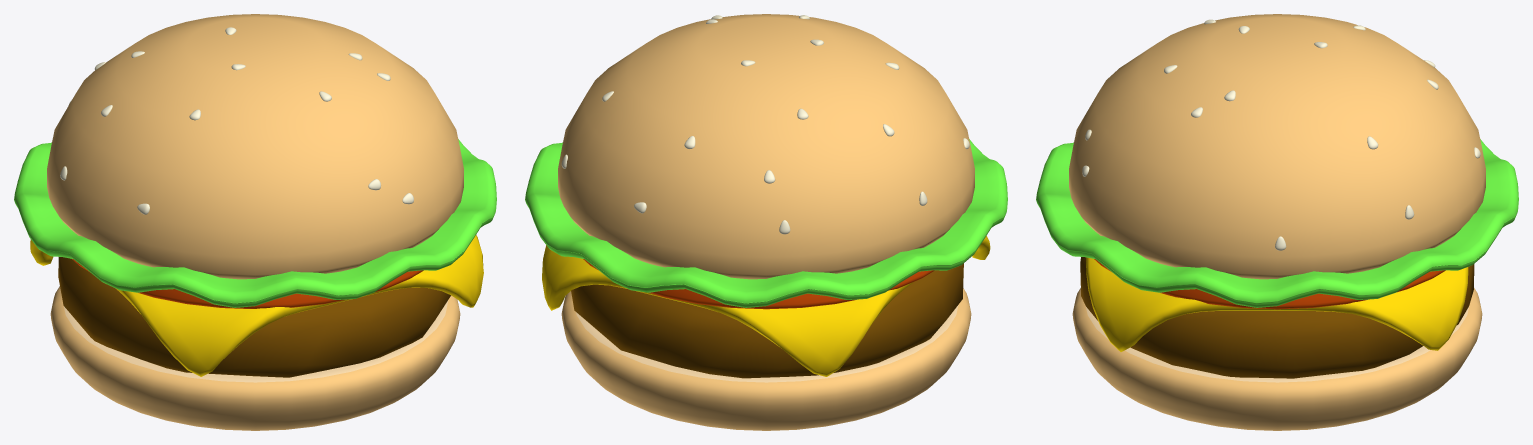
File: Burger.glb
The picture shows the model from 3 angles, left to right: view 1: azimuth 30°, elevation 25°; view 2: azimuth 150°, elevation 25°; view 3: azimuth 270°, elevation 25°; orthographic projection.
Visible parts, largest first — view 1: top_bun_1, Bottom_bun, beef, Lettuce, Cheese, tomato, seeds; view 2: top_bun_1, Bottom_bun, beef, Lettuce, Cheese, tomato, seeds; view 3: top_bun_1, Bottom_bun, Lettuce, beef, Cheese, tomato, seeds.
Boxes of the visible parts, x1,y1,x2,y2 form: top_bun_1: (47,14,463,279); Bottom_bun: (50,286,460,430); beef: (58,257,450,377); Lettuce: (14,139,496,307); Cheese: (30,235,483,376); tomato: (72,259,423,308); seeds: (60,27,413,214); top_bun_1: (558,14,974,279); Bottom_bun: (561,288,971,430); beef: (571,263,963,378); Lettuce: (525,139,1007,307); Cheese: (542,236,990,376); tomato: (583,259,934,309); seeds: (561,15,969,234); top_bun_1: (1069,14,1485,279); Bottom_bun: (1072,288,1482,430); Lettuce: (1036,139,1518,307); beef: (1080,257,1474,378); Cheese: (1086,257,1468,351); tomato: (1094,259,1445,309); seeds: (1082,19,1480,250).
Bounding box in the file's own units: 138 × 98.89 × 138.
